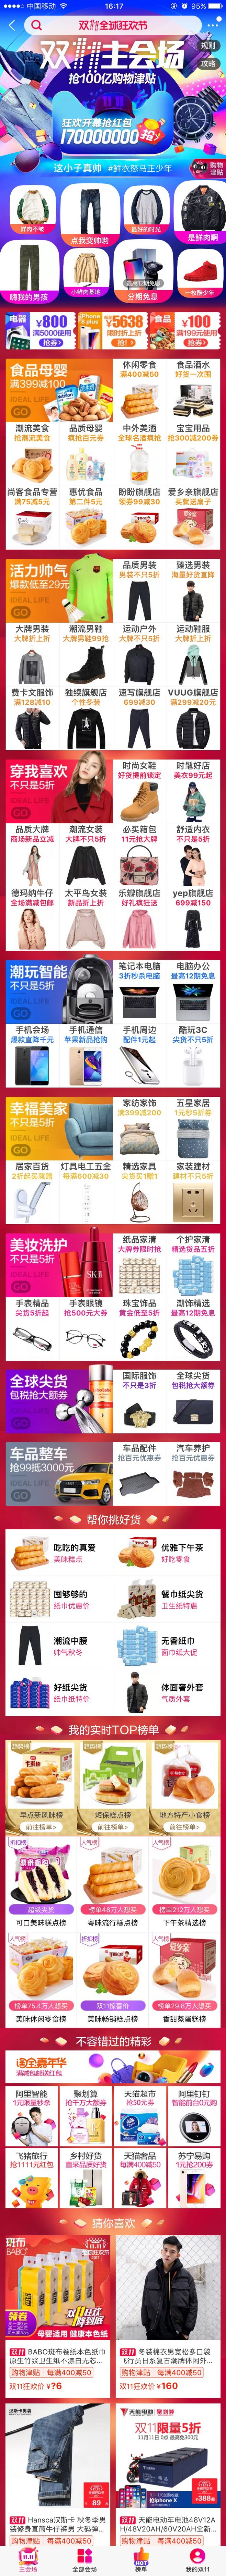floors: (0, 2216, 226, 2546), (0, 1723, 226, 2029), (0, 1511, 226, 1717), (0, 356, 226, 550), (0, 557, 226, 751), (0, 757, 226, 951), (0, 2034, 226, 2210), (0, 1094, 226, 1226), (0, 959, 226, 1089), (0, 1232, 226, 1362), (0, 179, 226, 304), (0, 1368, 226, 1434), (0, 1441, 226, 1506), (0, 310, 226, 352)
toutu: (0, 15, 226, 177)
